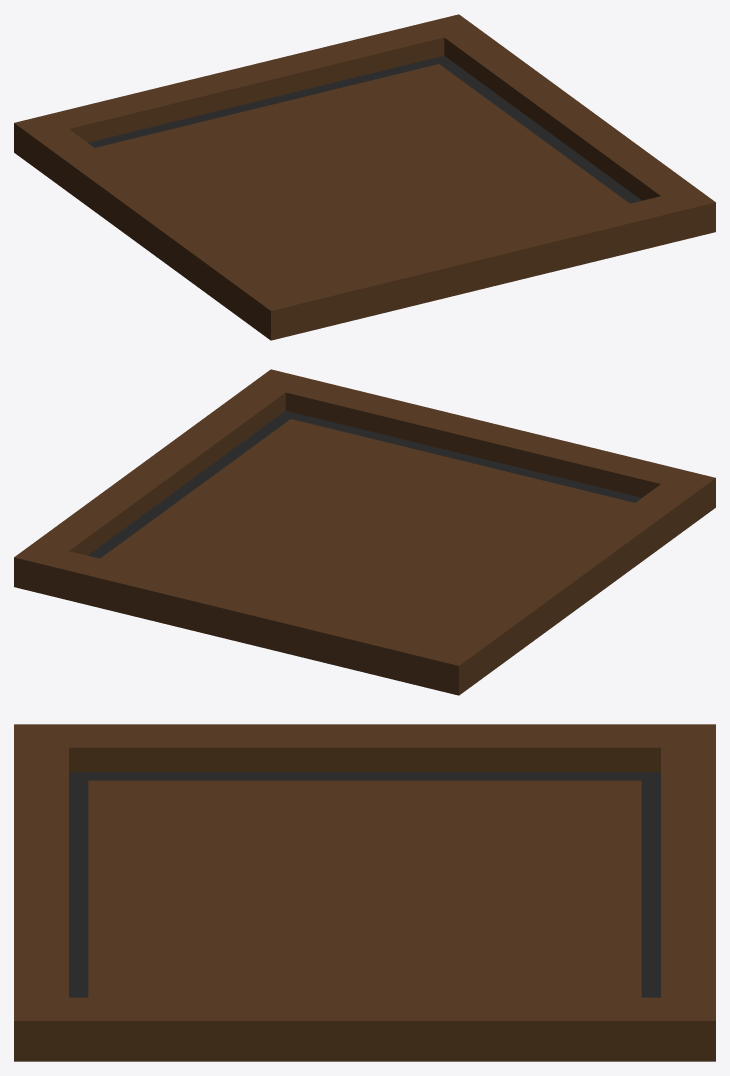
File: Button_Socle.fbx
The picture shows the model from 3 angles, top to bottom: view 1: azimuth 30°, elevation 25°; view 2: azimuth 150°, elevation 25°; view 3: azimuth 270°, elevation 25°; orthographic projection. The views are drawn at different scales.
Visible parts, largest first — view 1: Button_ Socle; view 2: Button_ Socle; view 3: Button_ Socle.
Boxes of the visible parts, <box> form: Button_ Socle: <box>14,14,715,340</box>; Button_ Socle: <box>14,369,715,695</box>; Button_ Socle: <box>14,724,715,1061</box>.
Bounding box in the file's own units: 100 × 6.38 × 100.
